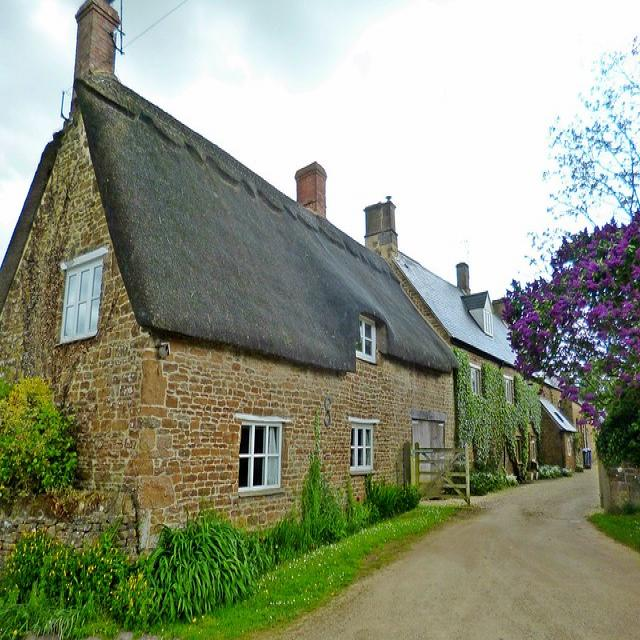Normal_building: (0, 0, 455, 613), (360, 203, 576, 489)
